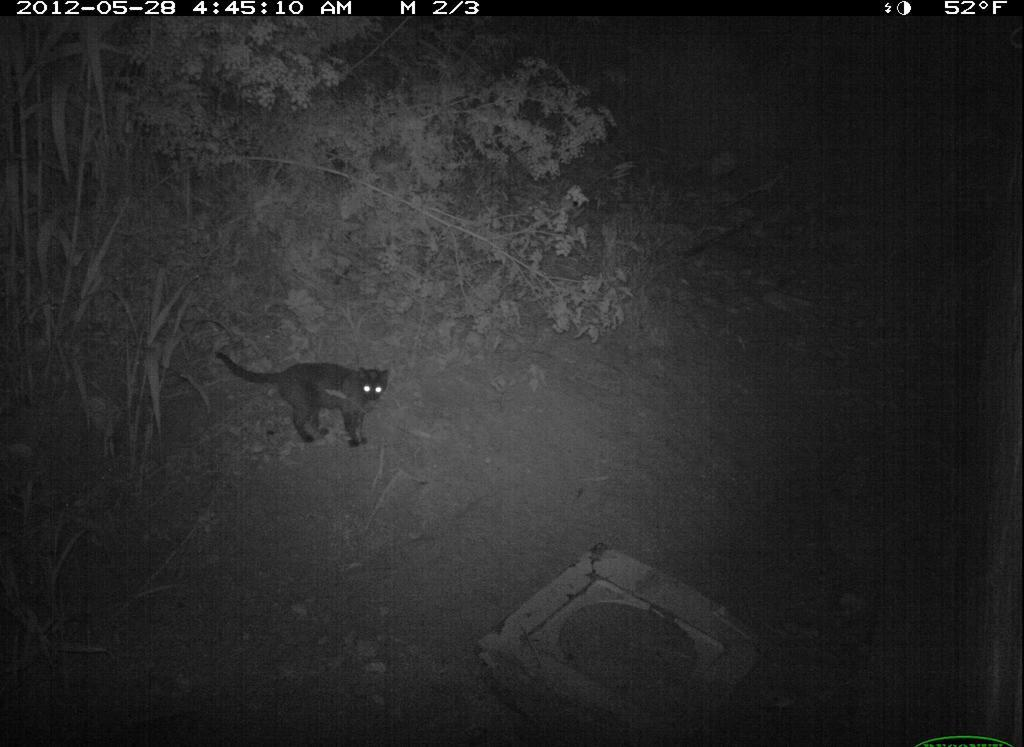cat: (205, 333, 418, 461)
